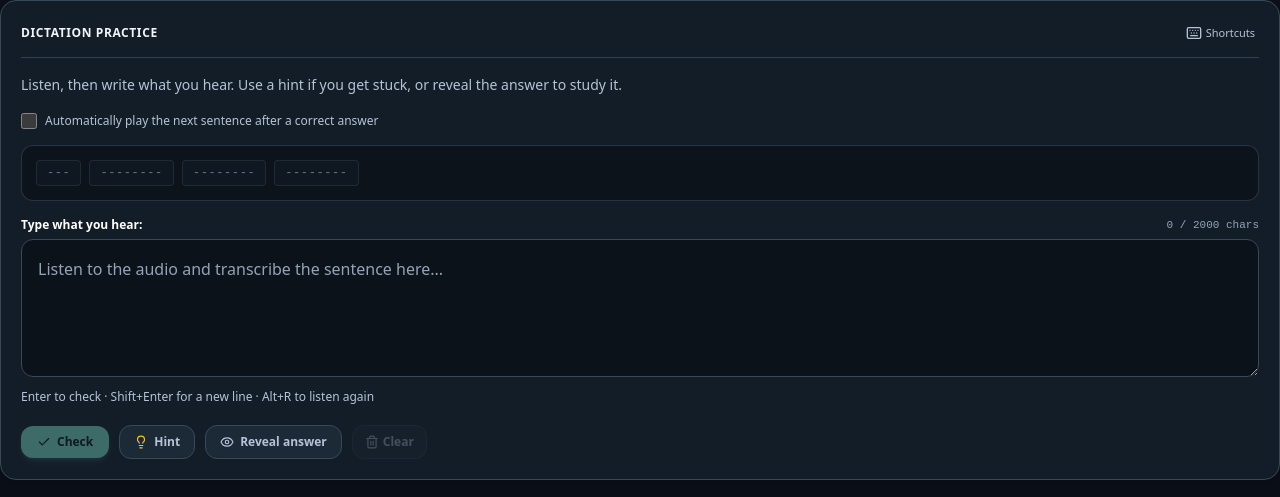
Scenario: DictationBox Component › reveals answer, displays full sentence, and unlocks shadowing
This screenshot has width=1280, height=497.
Click the button with aria-label "reveal sentence": (274, 442) top-left (205, 425), bottom-right (342, 459)
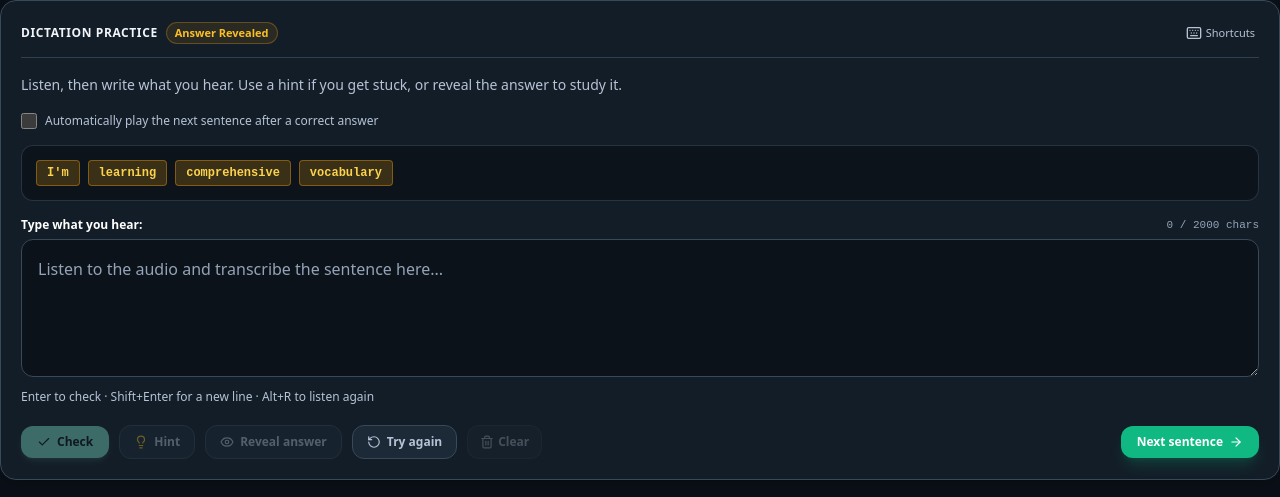
Expected: the button "I'm" is shown, top-left (36, 160), bottom-right (80, 186)
Expected: the button "learning" is shown, top-left (88, 160), bottom-right (167, 186)
Expected: the button "comprehensive" is shown, top-left (175, 160), bottom-right (291, 186)
